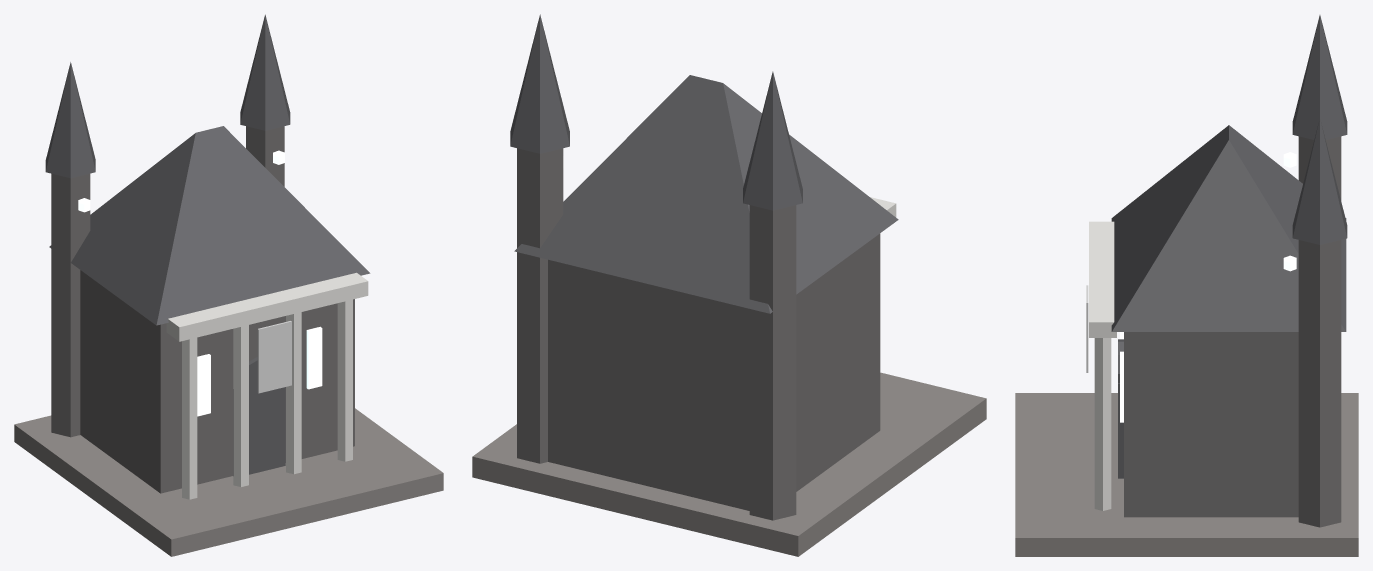
The picture shows the model from 3 angles, left to right: view 1: azimuth 30°, elevation 25°; view 2: azimuth 150°, elevation 25°; view 3: azimuth 270°, elevation 25°; orthographic projection. The views are drawn at different scales.
Visible parts, largest first — view 1: body; view 2: body; view 3: body.
Part boxes in pixels (left/top/right/bottom): body: left=14, top=14, right=443, bottom=556; body: left=472, top=14, right=986, bottom=556; body: left=1015, top=15, right=1358, bottom=556.
Bounding box in the file's own units: 9.8 × 13.2 × 9.8.
